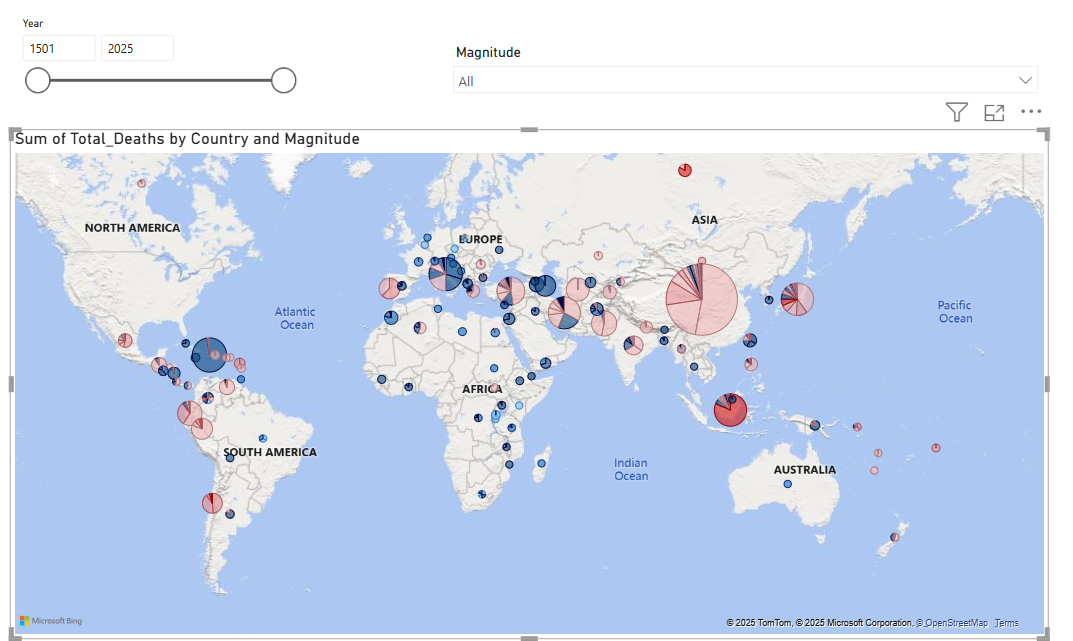

Layout of this report page (visuals, bound fields, positions):
{"tool":"powerbi","page":{"name":"Page 1","canvas":[1280,720],"ordinal":0},"visuals":[{"type":"map","fields":{"Category":["earthquake_data_updated.Country"],"Size":["Sum(earthquake_data_updated.Total_Deaths)"],"Series":["earthquake_data_updated.Mag"]},"box":[49.6,144.7,1056.8,519.5],"z":0},{"type":"slicer","fields":{"Values":["earthquake_data_updated.Year"]},"box":[50.2,25.1,299.7,149.1],"z":1},{"type":"slicer","fields":{"Values":["earthquake_data_updated.Mag"]},"box":[491.2,51.8,615.2,92.6],"z":2}]}

Visuals, with their boxes on the page's 1280x720 design canvas (x1, y1, x2, y2). These are canvas units, not pixel positions in the 1073x641 screenshot, which may show the page scaled, cropped or inside an application window:
map - earthquake_data_updated.Country x Sum(earthquake_data_updated.Total_Deaths): {"left": 50, "top": 145, "right": 1106, "bottom": 664}
slicer - earthquake_data_updated.Year: {"left": 50, "top": 25, "right": 350, "bottom": 174}
slicer - earthquake_data_updated.Mag: {"left": 491, "top": 52, "right": 1106, "bottom": 144}
